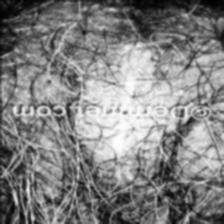Non-Cancerous Skin Condition: (114, 57, 142, 158)
